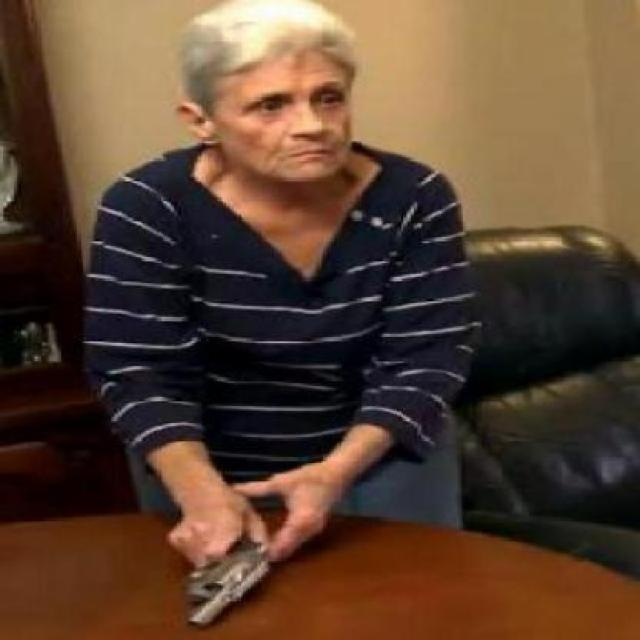gun: (159, 528, 279, 628)
